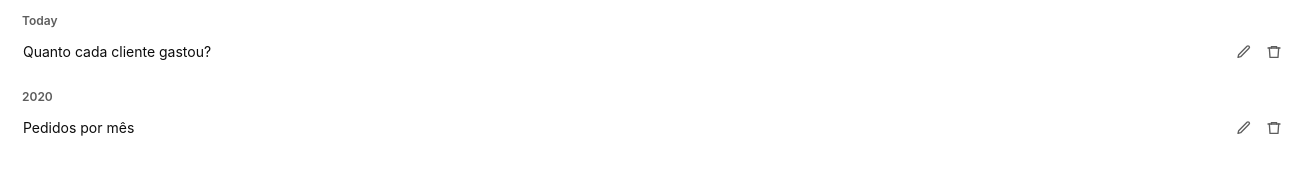
ConversationList › renames a chat with Enter, once
Click the button named "Rename Pedidos por mês" at (1244, 128), box top-left (1230, 114), bottom-right (1258, 142)
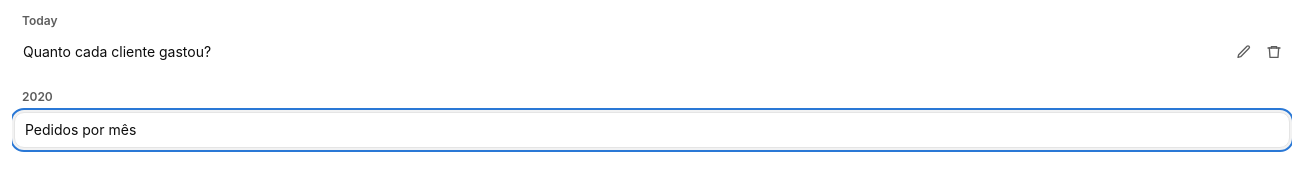
Replace the text in the field named "Chat title" with "Mensal" at (652, 130), box top-left (14, 112), bottom-right (1290, 148)
Then press Enter
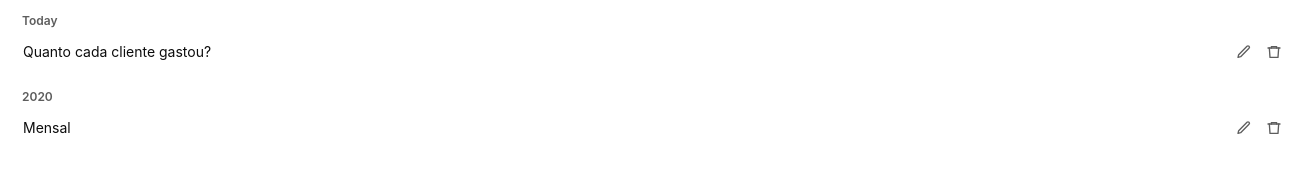
expect the button "Mensal" is shown: met, box top-left (12, 110), bottom-right (1230, 146)
